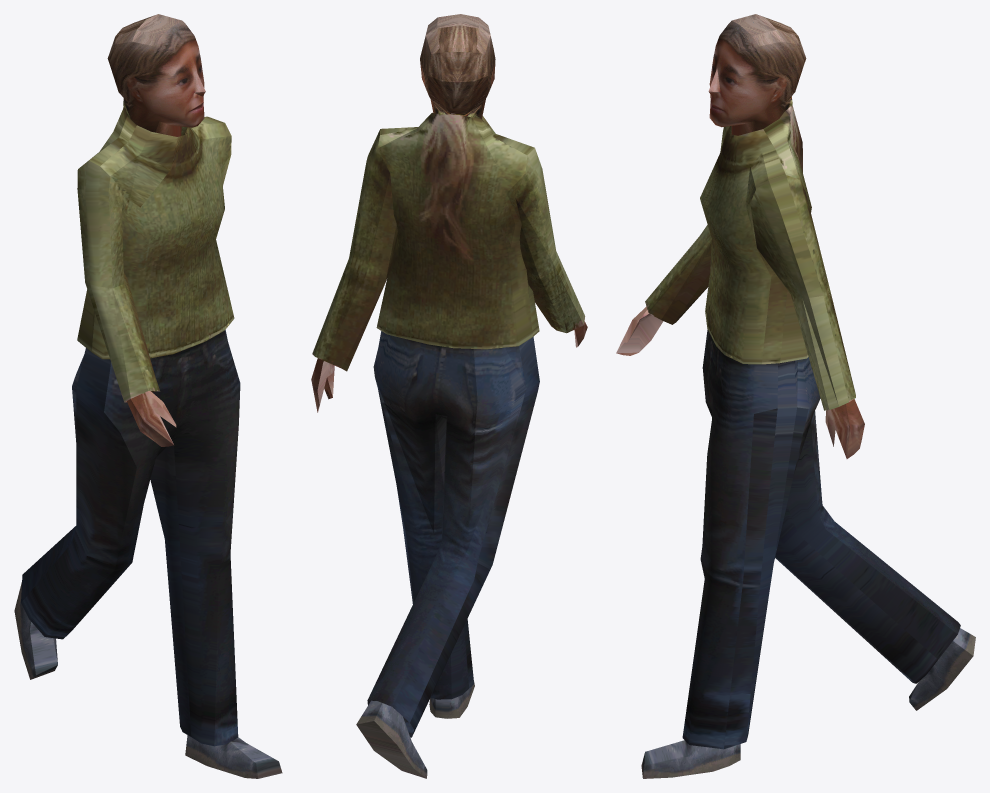
The picture shows the model from 3 angles, left to right: view 1: azimuth 30°, elevation 25°; view 2: azimuth 150°, elevation 25°; view 3: azimuth 270°, elevation 25°; orthographic projection. The views are drawn at different scales.
Visible parts, largest first — view 1: glbxzcom60281; view 2: glbxzcom60281; view 3: glbxzcom60281.
Boxes of the visible parts, left/top/right/bottom form: glbxzcom60281: left=14, top=14, right=282, bottom=778; glbxzcom60281: left=311, top=14, right=587, bottom=778; glbxzcom60281: left=616, top=14, right=975, bottom=778.
Size of the model in its own units: 0.45 by 1.66 by 0.7434.
1 material, 1 textured.
